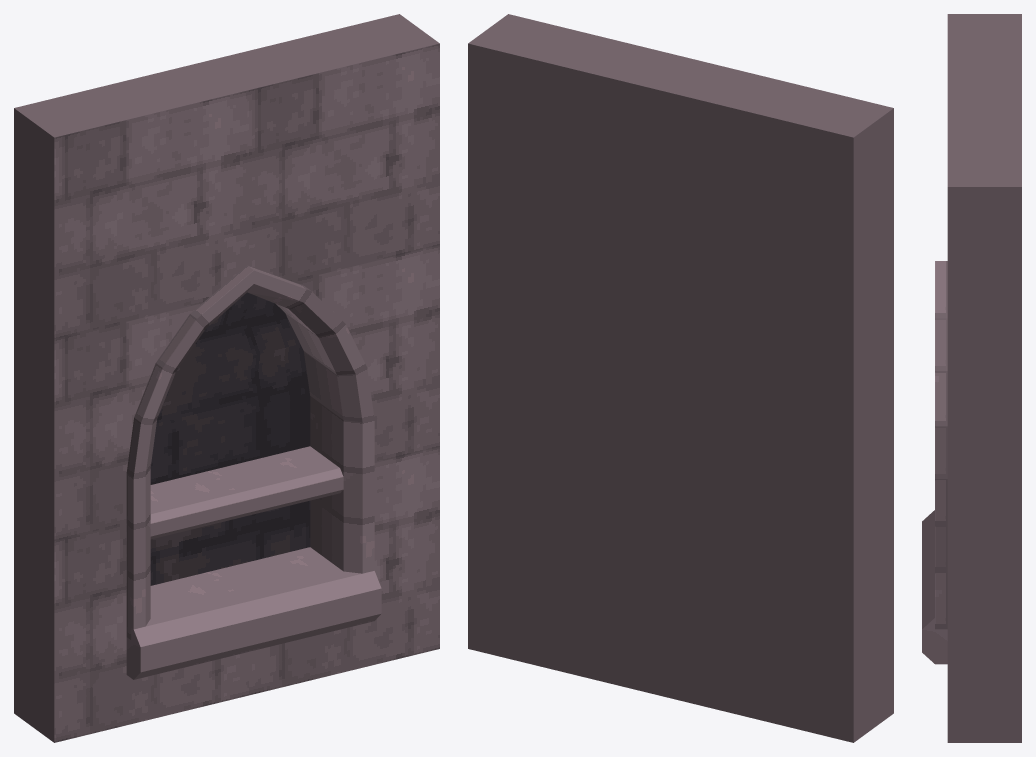
File: wandnische_regal_t30_b.glb
3 renders of one model, left to right at view 1: azimuth 30°, elevation 25°; view 2: azimuth 150°, elevation 25°; view 3: azimuth 270°, elevation 25°, orthographic. The views are drawn at different scales.
Visible parts, largest first — view 1: platte, gewaende, sohlbank, bord; view 2: platte; view 3: platte, gewaende, sohlbank.
Boxes of the visible parts, <box> form: platte: <box>14,14,439,742</box>; gewaende: <box>126,265,374,639</box>; sohlbank: <box>126,547,381,679</box>; bord: <box>150,446,343,539</box>; platte: <box>468,14,893,742</box>; platte: <box>947,14,1021,742</box>; gewaende: <box>935,261,947,629</box>; sohlbank: <box>922,510,947,664</box>.
Size of the model in its own units: 2 by 3 by 0.4875.
1 material, 1 textured.
